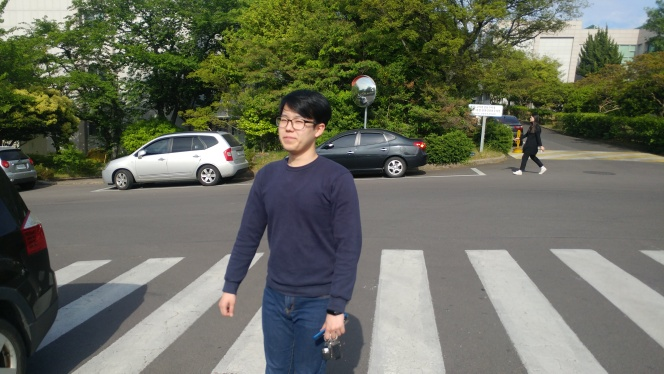KMG: (269, 79, 332, 164)
